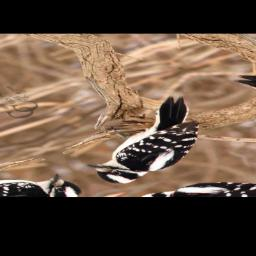Woodpecker: (40, 92, 256, 188)
